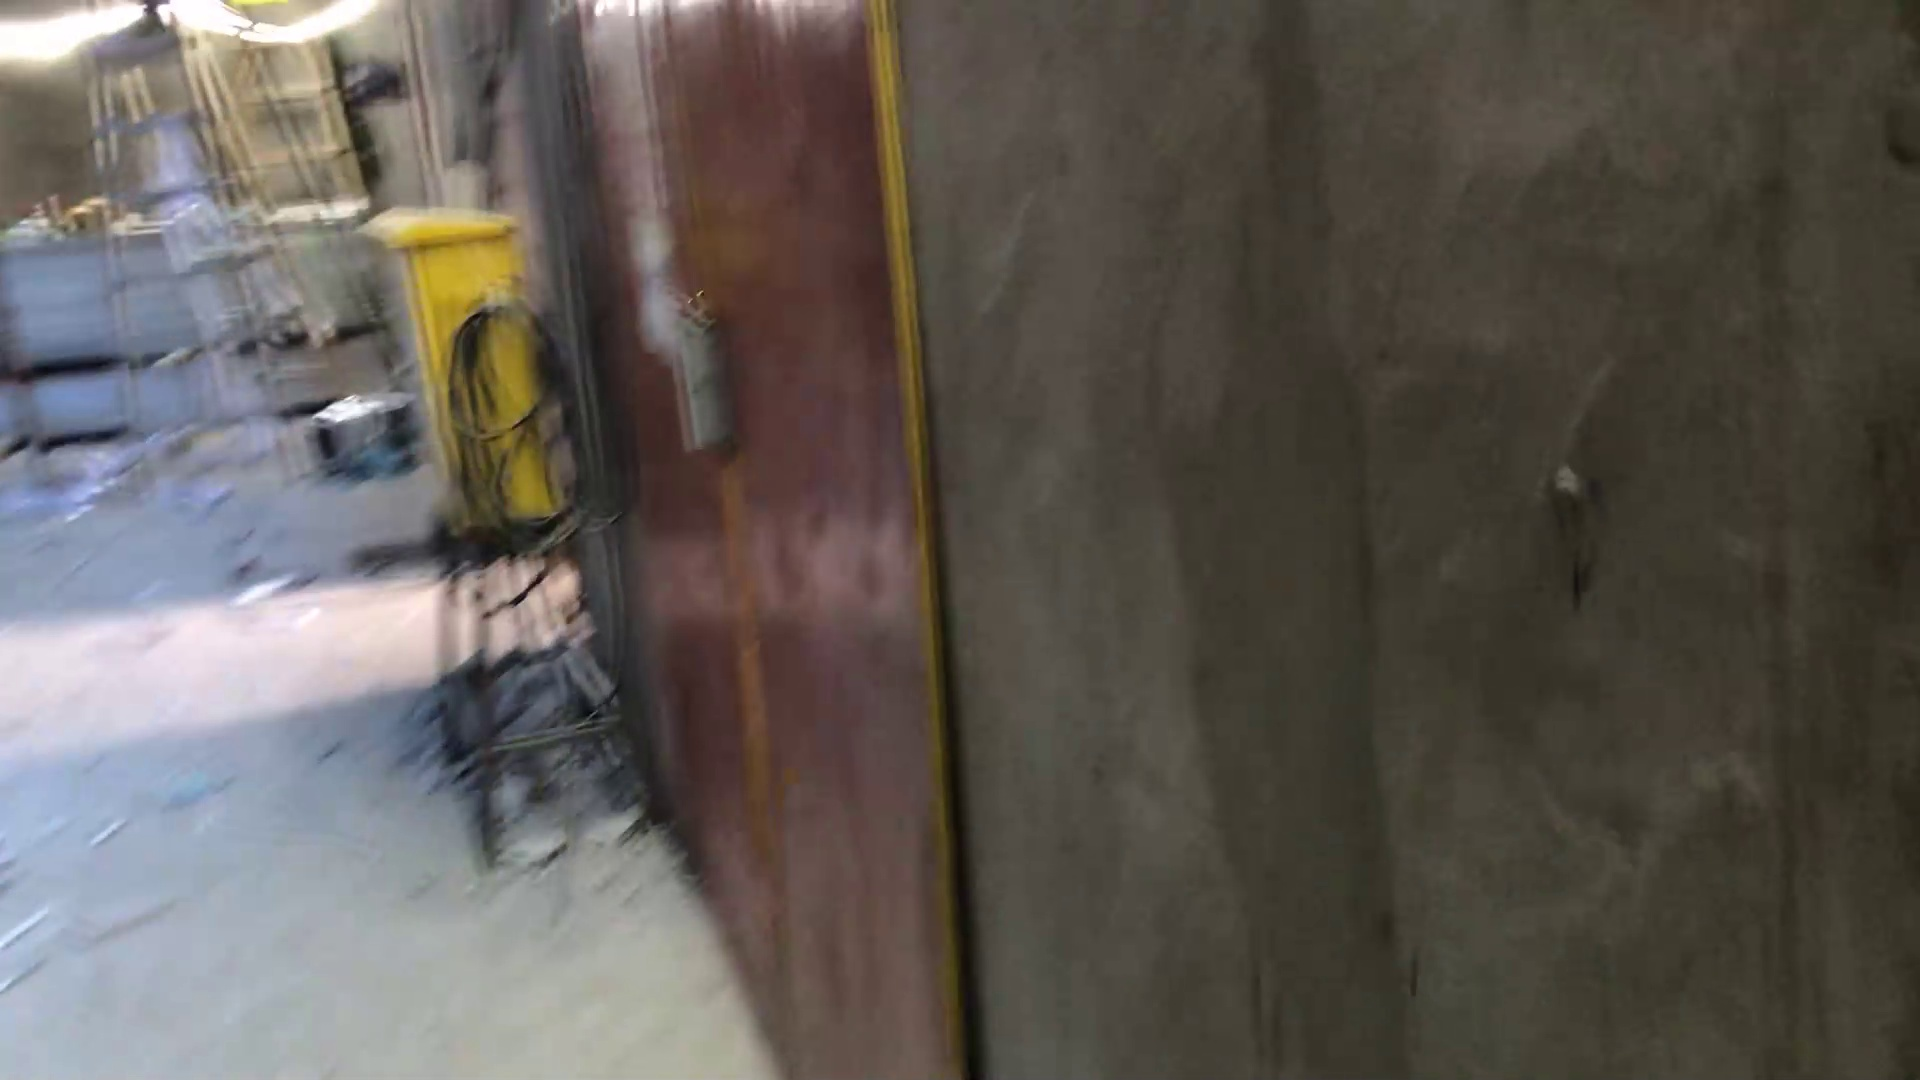ebox: (357, 199, 654, 845)
